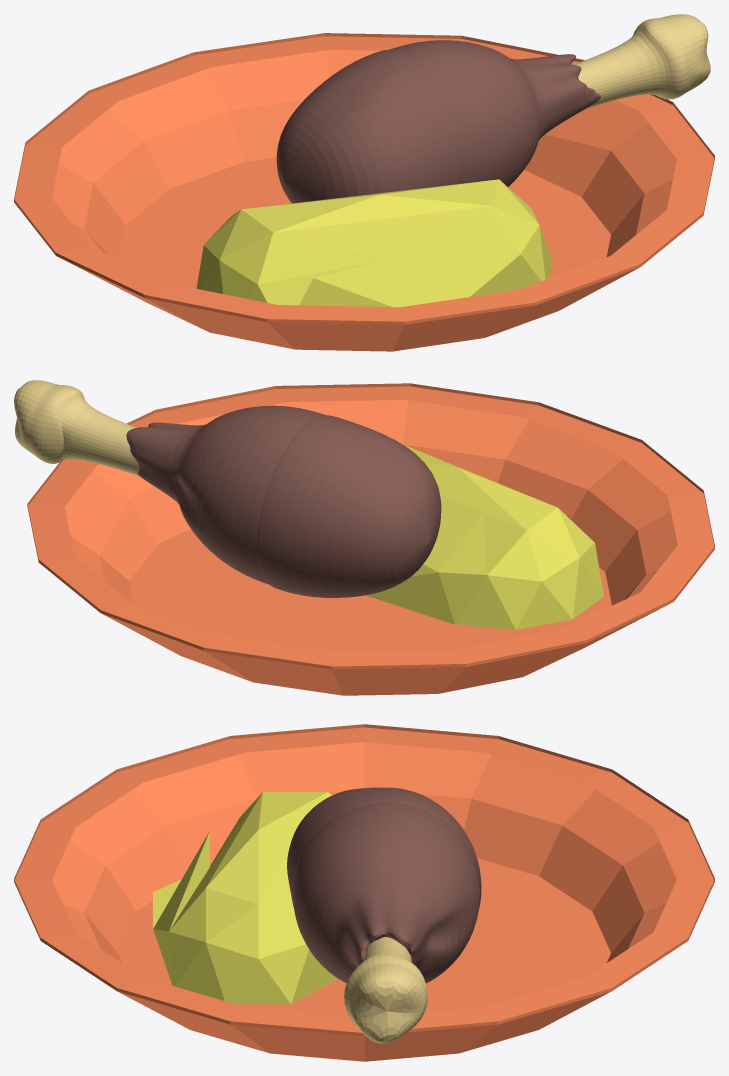
The model's file is Mole con npollo.fbx.
3 views of the same model, one above another, from view 1: azimuth 30°, elevation 25°; view 2: azimuth 150°, elevation 25°; view 3: azimuth 270°, elevation 25° (orthographic). The views are drawn at different scales.
Visible parts, largest first — view 1: Esfera, Cilindro, Esfera geodésica, Cilindro.001; view 2: Esfera, Cilindro, Esfera geodésica, Cilindro.001; view 3: Esfera, Cilindro, Esfera geodésica, Cilindro.001.
Boxes of the visible parts, bbox=[...] form: Esfera: bbox=[14, 33, 714, 351]; Cilindro: bbox=[276, 40, 600, 203]; Esfera geodésica: bbox=[196, 179, 552, 307]; Cilindro.001: bbox=[573, 14, 710, 108]; Esfera: bbox=[27, 383, 714, 695]; Cilindro: bbox=[126, 405, 441, 597]; Esfera geodésica: bbox=[366, 444, 603, 629]; Cilindro.001: bbox=[14, 380, 139, 476]; Esfera: bbox=[14, 724, 714, 1061]; Cilindro: bbox=[287, 787, 481, 983]; Esfera geodésica: bbox=[153, 792, 337, 1004]; Cilindro.001: bbox=[344, 937, 427, 1043].
Bounding box in the file's own units: 213 × 53.39 × 191.
